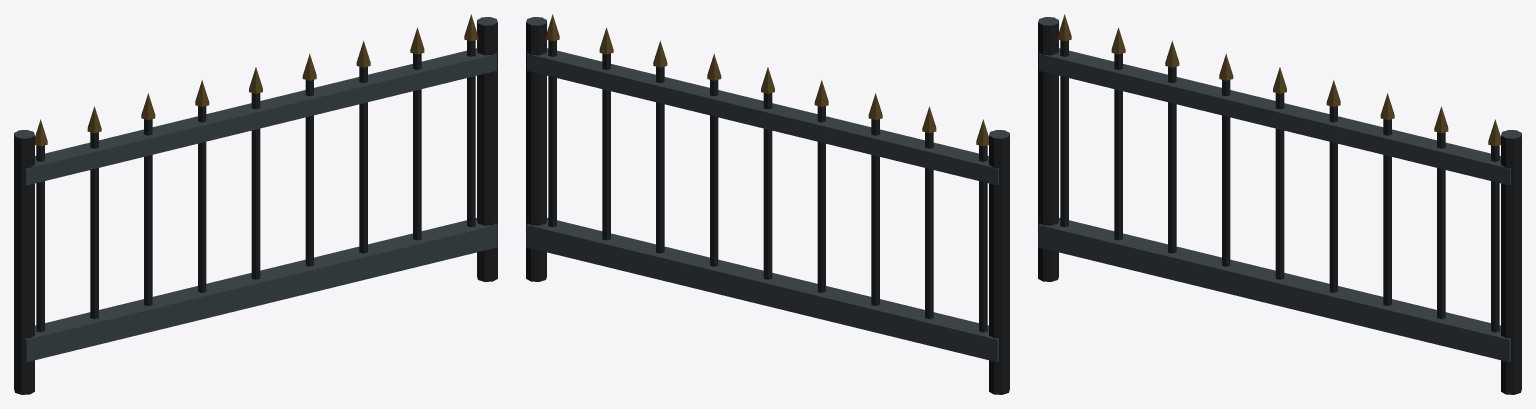
File: lp_court_fence_section.glb
The picture shows the model from 3 angles, left to right: view 1: azimuth 30°, elevation 25°; view 2: azimuth 150°, elevation 25°; view 3: azimuth 330°, elevation 25°; orthographic projection.
Parts seen in each view (by area): view 1: lp_court_fence_section; view 2: lp_court_fence_section; view 3: lp_court_fence_section.
Boxes of the visible parts, left/top/right/bottom form: lp_court_fence_section: left=14, top=14, right=497, bottom=394; lp_court_fence_section: left=526, top=14, right=1009, bottom=394; lp_court_fence_section: left=1038, top=14, right=1521, bottom=394.
Bounding box in the file's own units: 3.58 × 1.9 × 0.16.
Materials: 1 (1 with a texture image).
